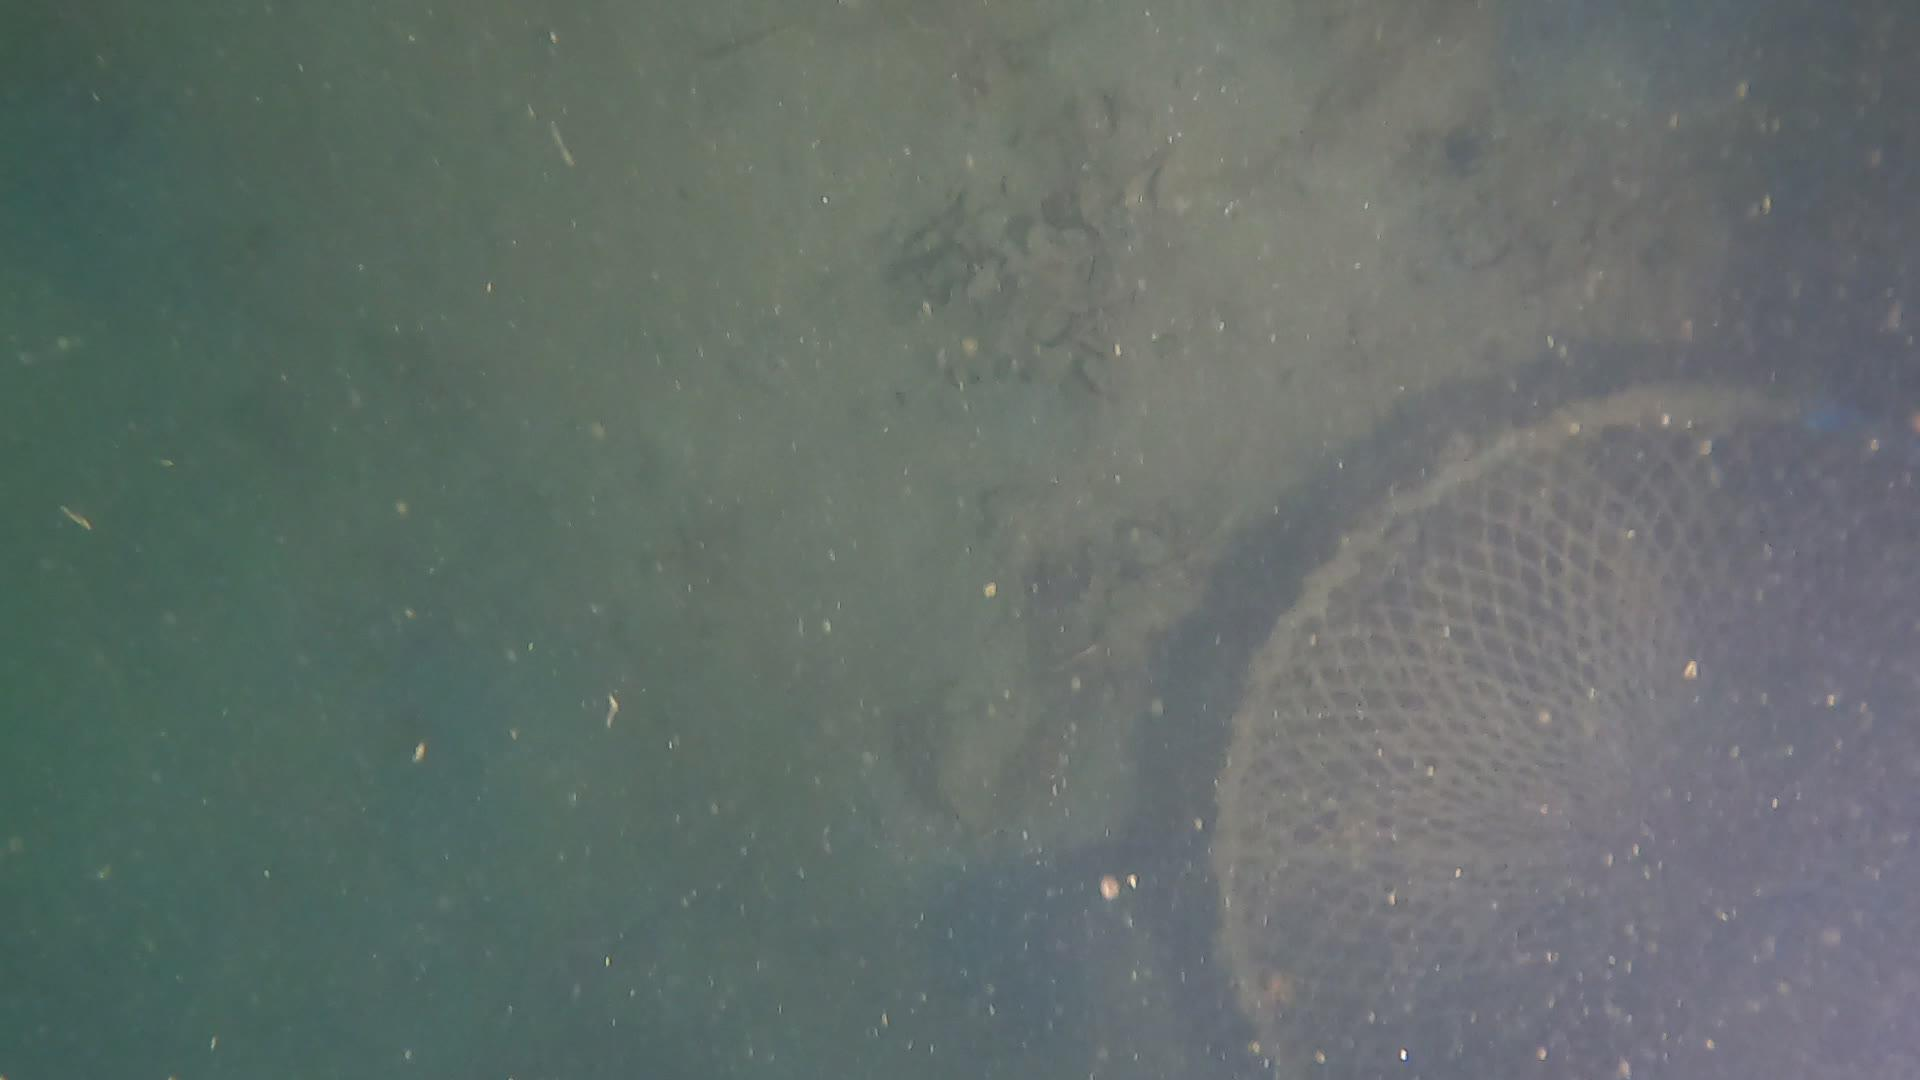circular fish trap: (1207, 392, 1920, 1080)
